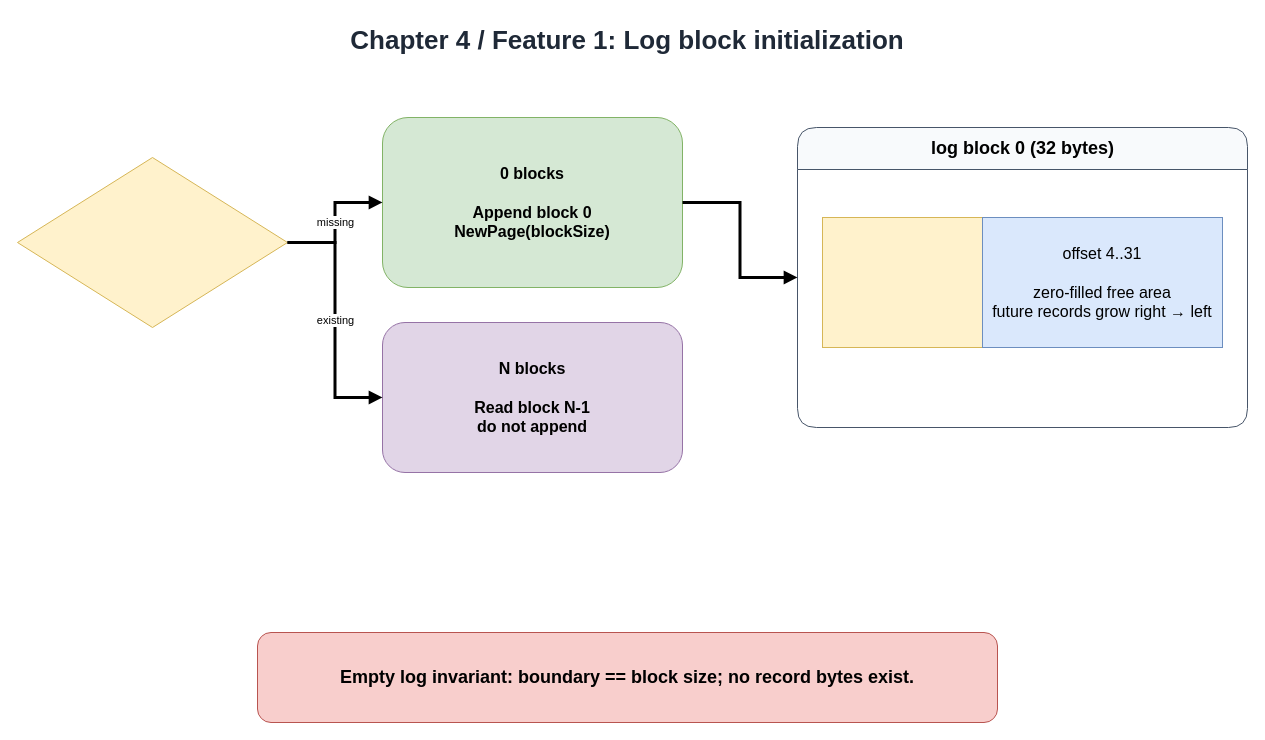
The diagram is 1265 pixels wide and 740 high, and some of its shapes have lost their labels. Each missing label, with the centre of its shape:
Length("simpledb.log"): point (152, 242)
offset 0..3 boundary = 32: point (902, 282)
